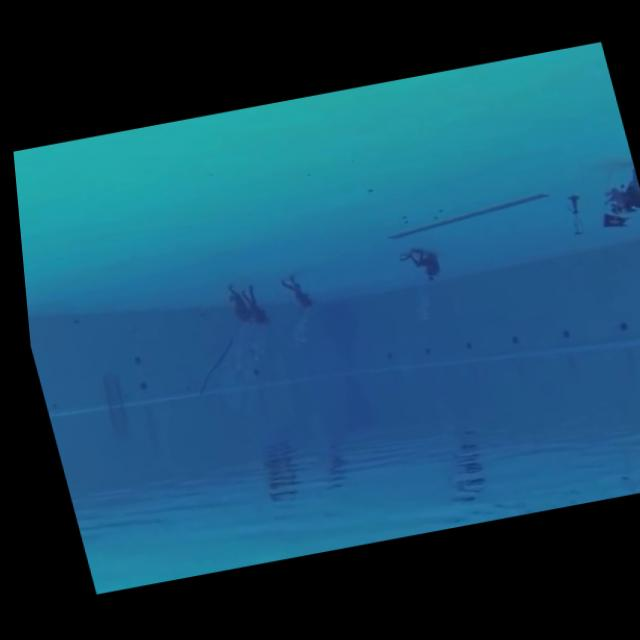human: (576, 160, 640, 237), (390, 239, 445, 293), (269, 268, 319, 325), (229, 277, 271, 336), (209, 279, 247, 338)
